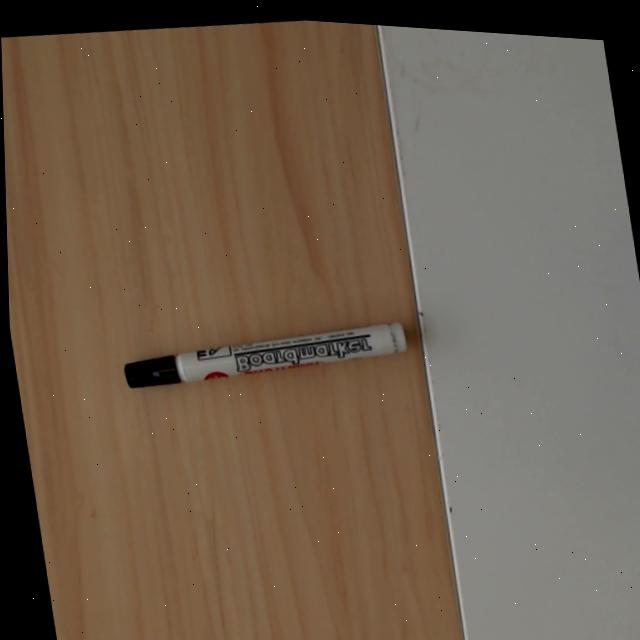Marker-Pen: (121, 321, 406, 391)
